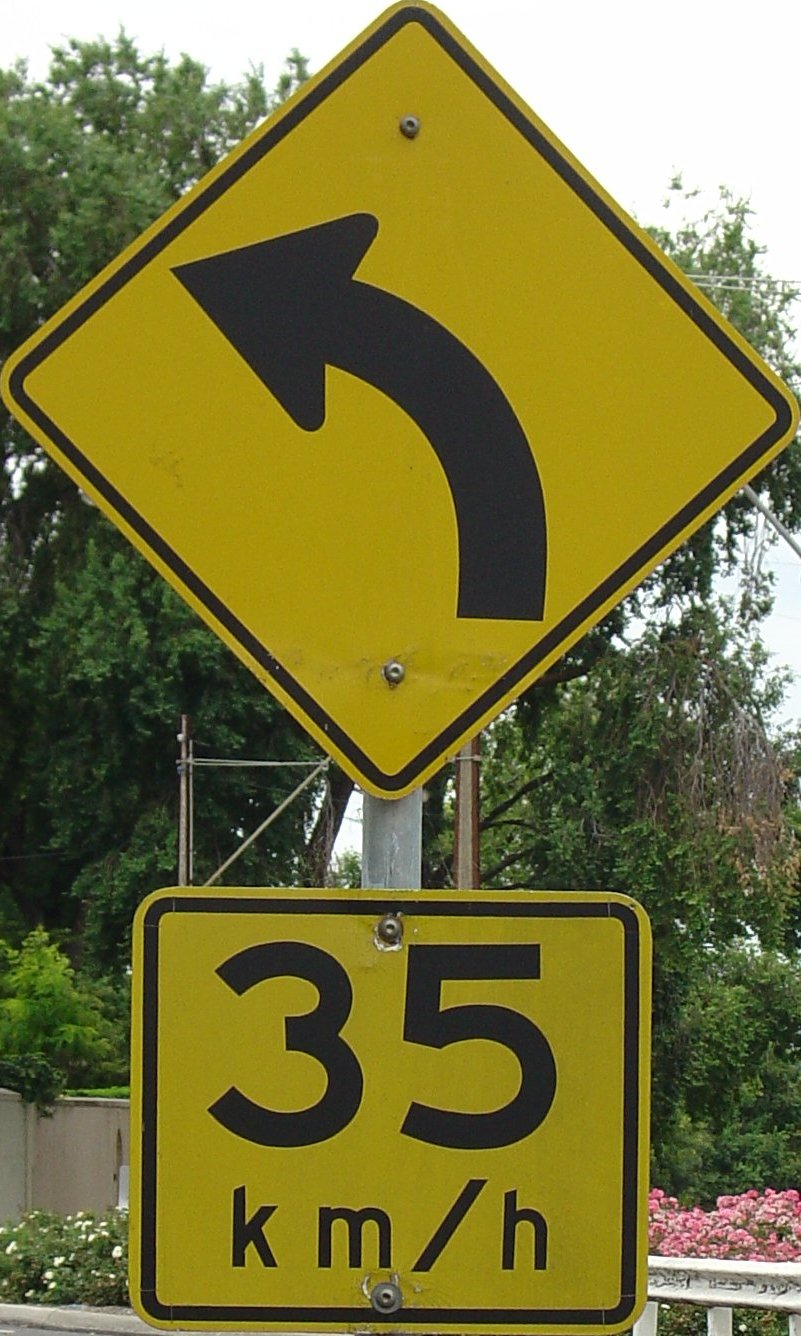left: (1, 6, 801, 809)
